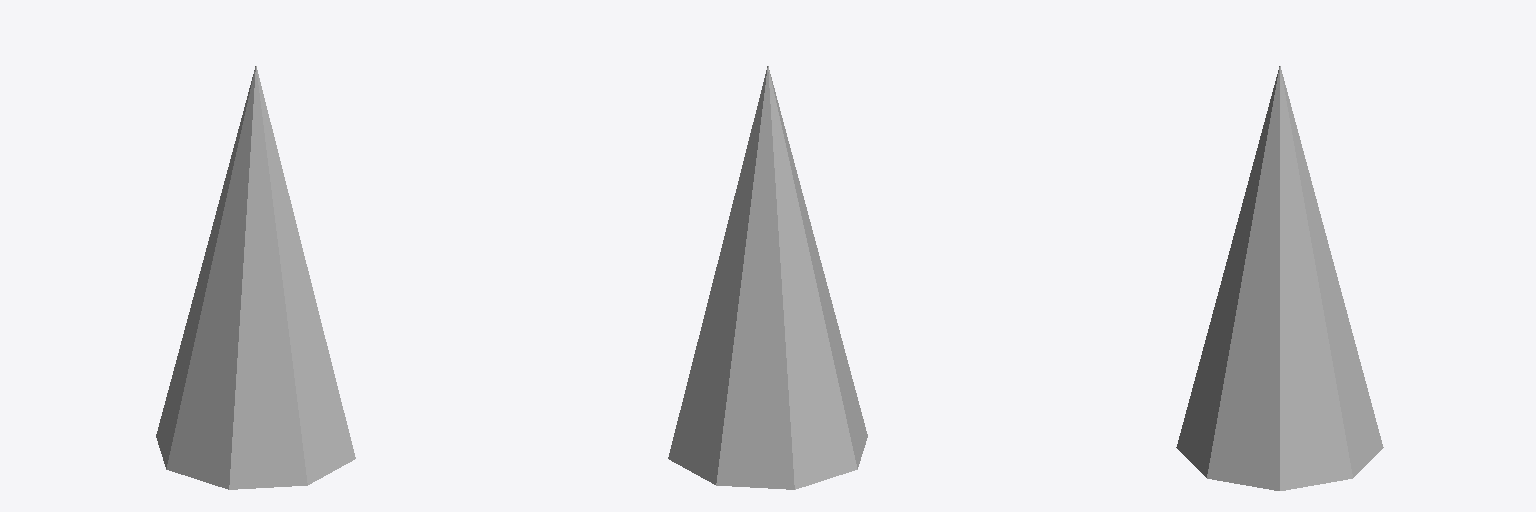
Rendered from TranslationGizmo.obj.
3 views of the same model, side by side, from view 1: azimuth 30°, elevation 25°; view 2: azimuth 150°, elevation 25°; view 3: azimuth 270°, elevation 25° (orthographic).
Parts seen in each view (by area): view 1: Cylinder_Cylinder.001; view 2: Cylinder_Cylinder.001; view 3: Cylinder_Cylinder.001.
Part boxes in pixels (bbox=[...]): Cylinder_Cylinder.001: bbox=[156, 66, 355, 489]; Cylinder_Cylinder.001: bbox=[668, 66, 867, 489]; Cylinder_Cylinder.001: bbox=[1176, 66, 1383, 490].
Bounding box in the file's own units: 0.2288 × 0.4672 × 0.2288.